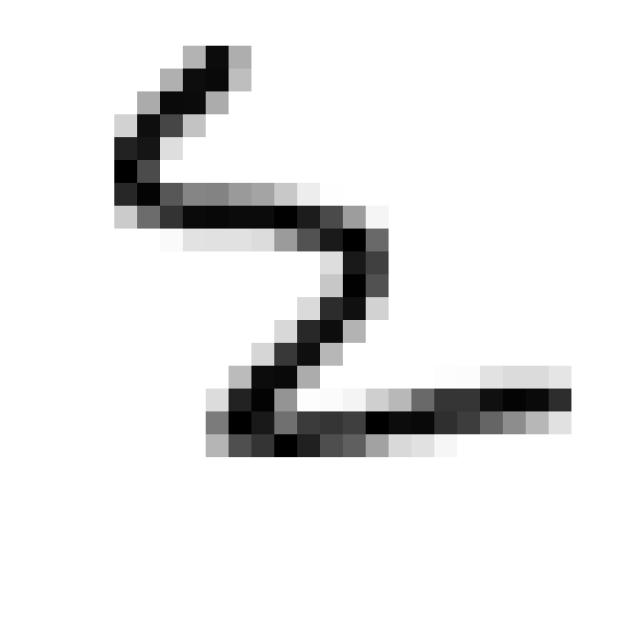4 -four-: (98, 27, 584, 473)
